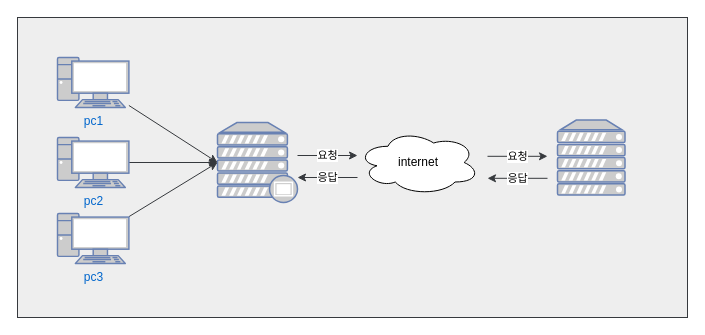
The diagram is 705 pixels wide and 335 high, and some of its shapes have lost their labels. Here are the shapes that lost their labels. From the top down, the centre of each, then its label:
At pixel 257 162: "proxy".
At pixel 591 157: "https://microsoft.com/".
